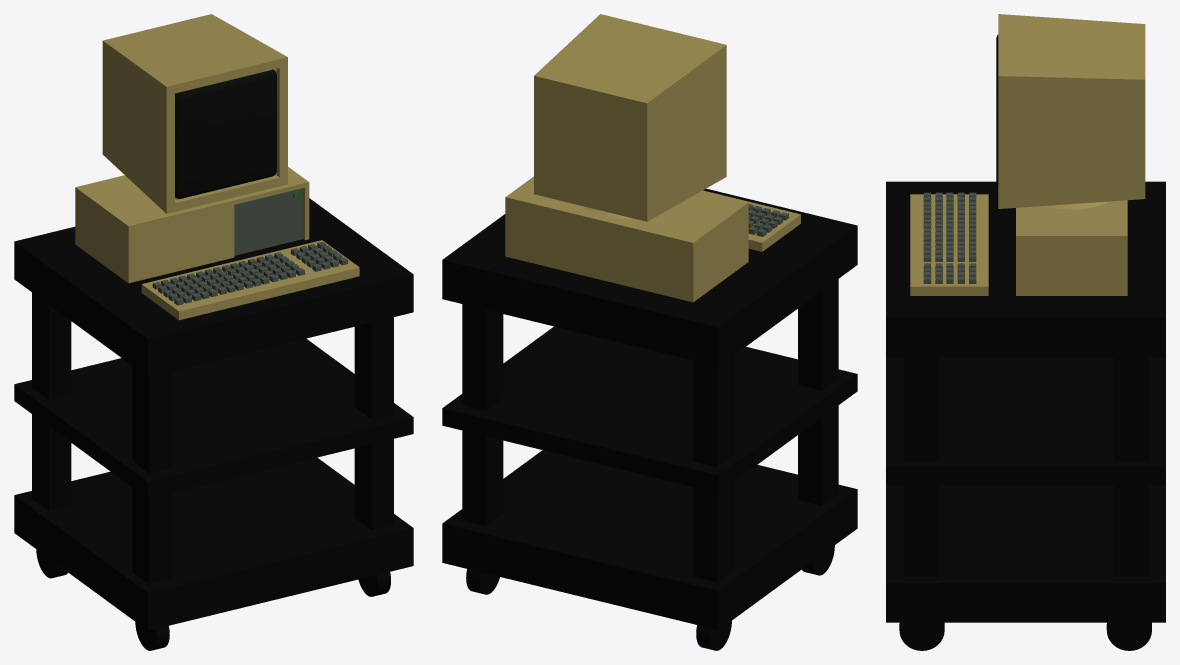
File: computer_and_cart.glb
The picture shows the model from 3 angles, left to right: view 1: azimuth 30°, elevation 25°; view 2: azimuth 150°, elevation 25°; view 3: azimuth 270°, elevation 25°; orthographic projection. The views are drawn at different scales.
Parts seen in each view (by area): view 1: Cube, computer, computer.001; view 2: Cube, computer; view 3: Cube, computer, computer.001.
Boxes of the visible parts, box(x1,y1,x2,y2) form: Cube: box(14, 198, 413, 650); computer: box(75, 14, 359, 320); computer.001: box(175, 69, 276, 198); Cube: box(442, 188, 857, 650); computer: box(505, 14, 800, 302); Cube: box(886, 181, 1165, 650); computer: box(910, 14, 1145, 295); computer.001: box(996, 34, 998, 188).
Bounding box in the file's own units: 4.38 × 8.21 × 3.81.
